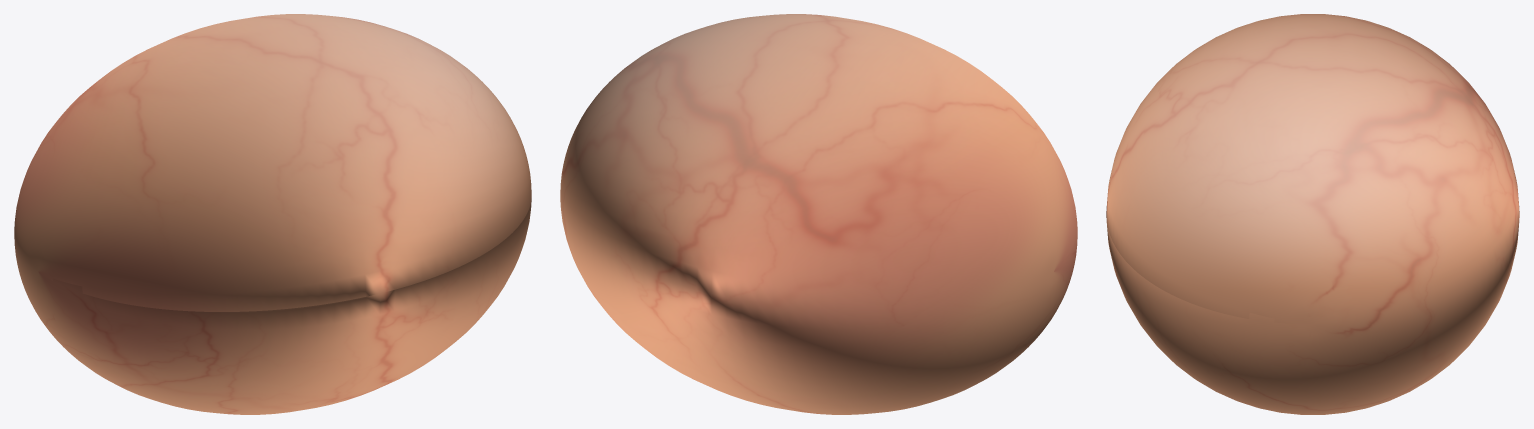
The picture shows the model from 3 angles, left to right: view 1: azimuth 30°, elevation 25°; view 2: azimuth 150°, elevation 25°; view 3: azimuth 270°, elevation 25°; orthographic projection. The views are drawn at different scales.
Visible parts, largest first — view 1: default; view 2: default; view 3: default.
Boxes of the visible parts, x1,y1,x2,y2 form: default: [14, 14, 531, 414]; default: [560, 14, 1077, 414]; default: [1106, 14, 1519, 414].
Size of the model in its own units: 6.35 by 4.52 by 5.05.
Materials: 41 (41 with a texture image).
